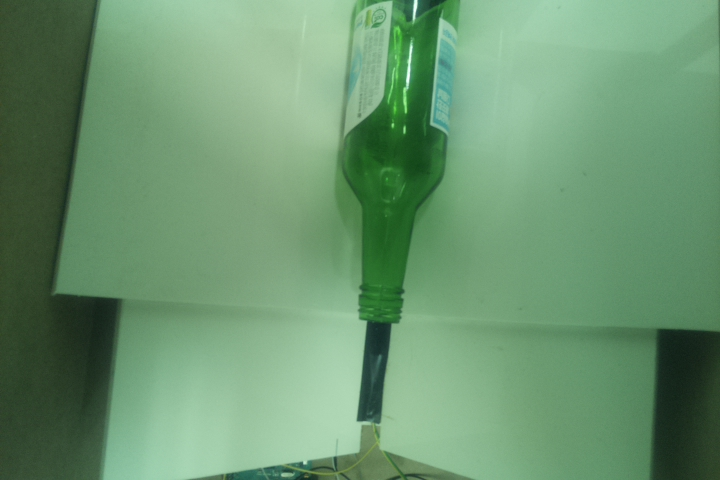soju: (338, 1, 467, 326)
